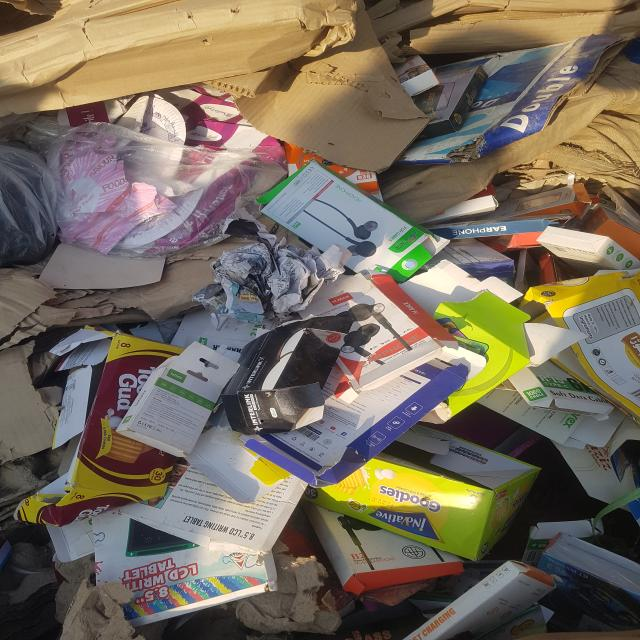electronic: (1, 1, 638, 638), (1, 0, 358, 116), (205, 1, 434, 174), (304, 424, 542, 562), (397, 33, 627, 165), (240, 357, 469, 488), (255, 158, 449, 283), (91, 511, 277, 627), (118, 457, 308, 555), (220, 312, 358, 435), (304, 500, 464, 596), (115, 341, 241, 458), (401, 560, 556, 640), (38, 242, 167, 290), (536, 225, 639, 274), (51, 364, 92, 450), (522, 321, 588, 367)
